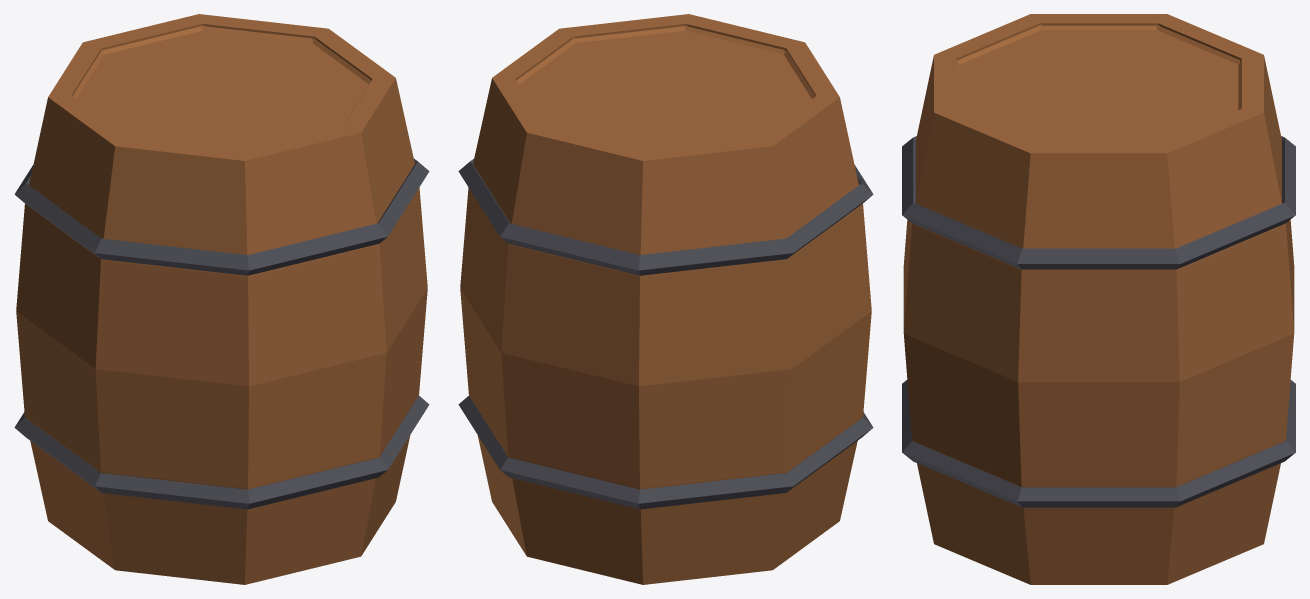
Rendered from barrel.glb.
3 views of the same model, side by side, from view 1: azimuth 30°, elevation 25°; view 2: azimuth 150°, elevation 25°; view 3: azimuth 270°, elevation 25° (orthographic).
Parts seen in each view (by area): view 1: root; view 2: root; view 3: root.
Boxes of the visible parts, box(x1,y1,x2,y2) form: root: box(14, 14, 429, 584); root: box(458, 14, 873, 584); root: box(902, 14, 1295, 584).
Size of the model in its own units: 0.6615 by 0.8 by 0.6615.
